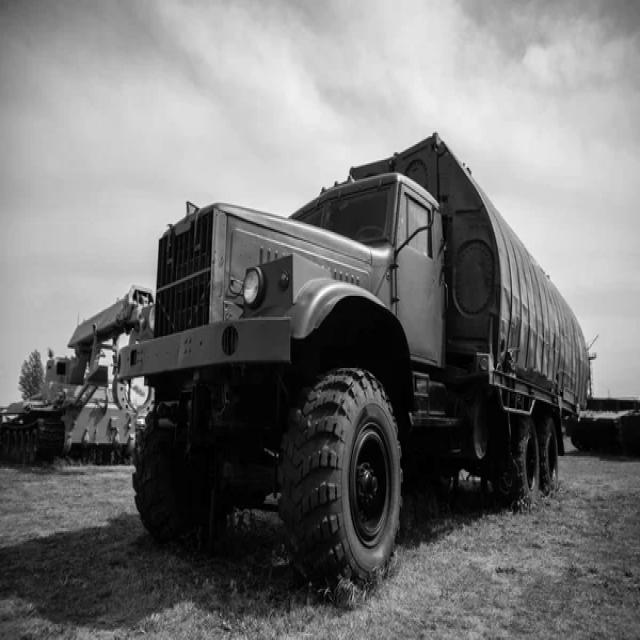Truck: (117, 134, 591, 584)
